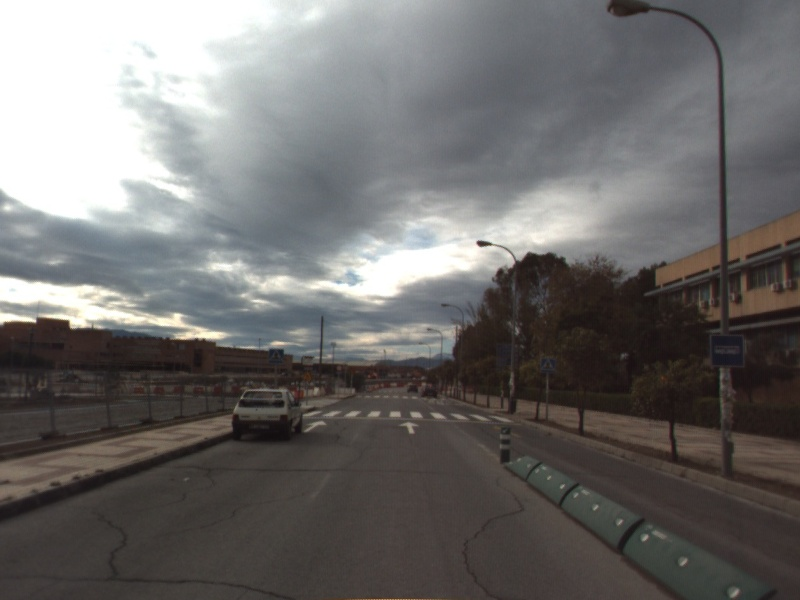STRAIGHT: (301, 418, 329, 434), (397, 420, 421, 436)
